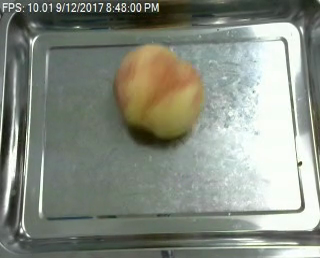Peach: (113, 42, 202, 140)
